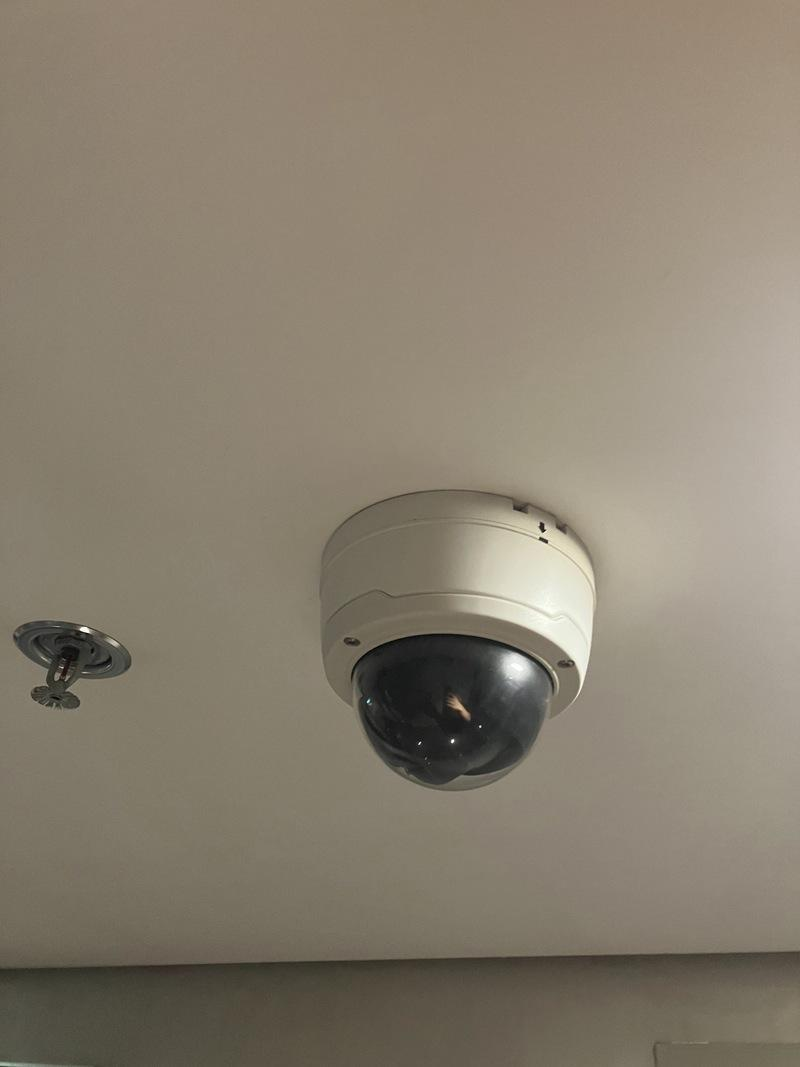dome: (300, 486, 611, 808)
